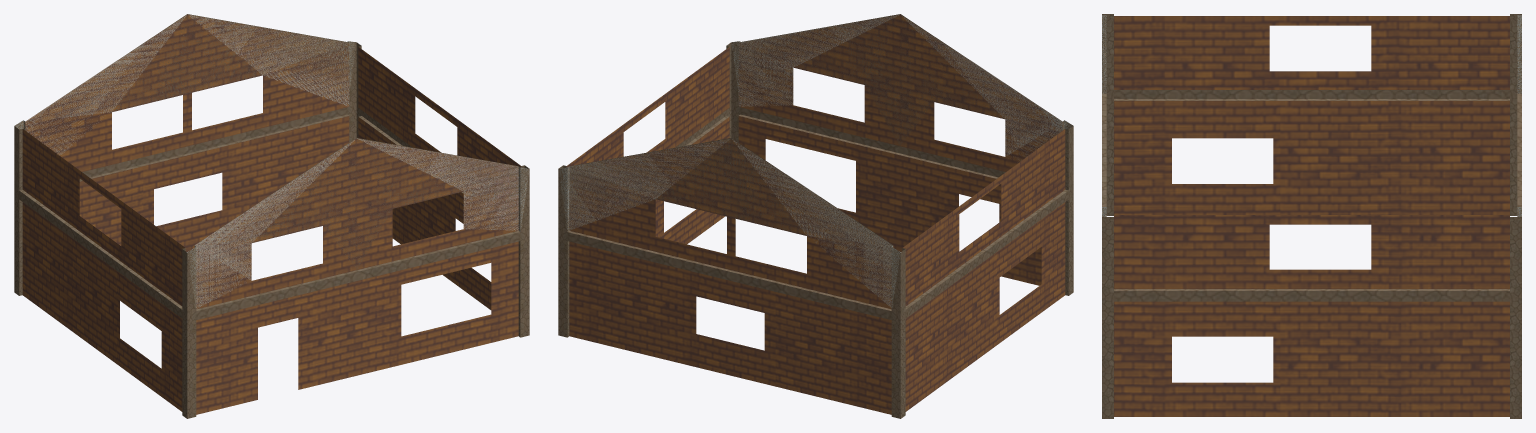
Rendered from House_006_OutsideWalls_Custom.fbx.
The picture shows the model from 3 angles, left to right: view 1: azimuth 30°, elevation 25°; view 2: azimuth 150°, elevation 25°; view 3: azimuth 270°, elevation 25°; orthographic projection. The views are drawn at different scales.
Visible parts, largest first — view 1: House_006_OutSideWalls_1, House_006_OutSideWalls_2, House_006_OutSideWalls_5, House_006_OutSideWalls_3, House_006_OutSideWalls_6, House_006_OutSideWalls_9, House_006_OutSideWalls_4, House_006_OutSideWalls_8, House_006_OutSideWalls_7; view 2: House_006_OutSideWalls_1, House_006_OutSideWalls_5, House_006_OutSideWalls_2, House_006_OutSideWalls_3, House_006_OutSideWalls_4, House_006_OutSideWalls_12, House_006_OutSideWalls_6; view 3: House_006_OutSideWalls_1, House_006_OutSideWalls_2.
Boxes of the visible parts, x1,y1,x2,y2 form: House_006_OutSideWalls_1: [14, 14, 529, 418]; House_006_OutSideWalls_2: [15, 15, 528, 307]; House_006_OutSideWalls_5: [32, 14, 526, 308]; House_006_OutSideWalls_3: [17, 15, 526, 307]; House_006_OutSideWalls_6: [19, 17, 526, 302]; House_006_OutSideWalls_9: [60, 16, 523, 307]; House_006_OutSideWalls_4: [16, 16, 526, 306]; House_006_OutSideWalls_8: [17, 15, 523, 300]; House_006_OutSideWalls_7: [18, 24, 526, 300]; House_006_OutSideWalls_1: [558, 15, 1073, 418]; House_006_OutSideWalls_5: [561, 14, 1072, 300]; House_006_OutSideWalls_2: [560, 16, 1062, 306]; House_006_OutSideWalls_3: [563, 16, 1067, 306]; House_006_OutSideWalls_4: [560, 15, 1064, 307]; House_006_OutSideWalls_12: [569, 25, 1071, 298]; House_006_OutSideWalls_6: [563, 16, 1066, 308]; House_006_OutSideWalls_1: [1102, 14, 1521, 418]; House_006_OutSideWalls_2: [1102, 16, 1521, 216].
Size of the model in its own units: 0.6838 by 0.454 by 0.598.
